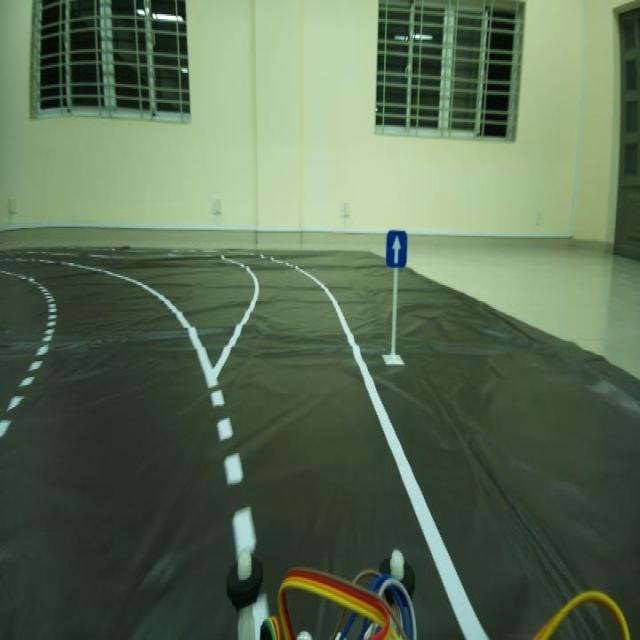onewayroad: (384, 226, 408, 272)
